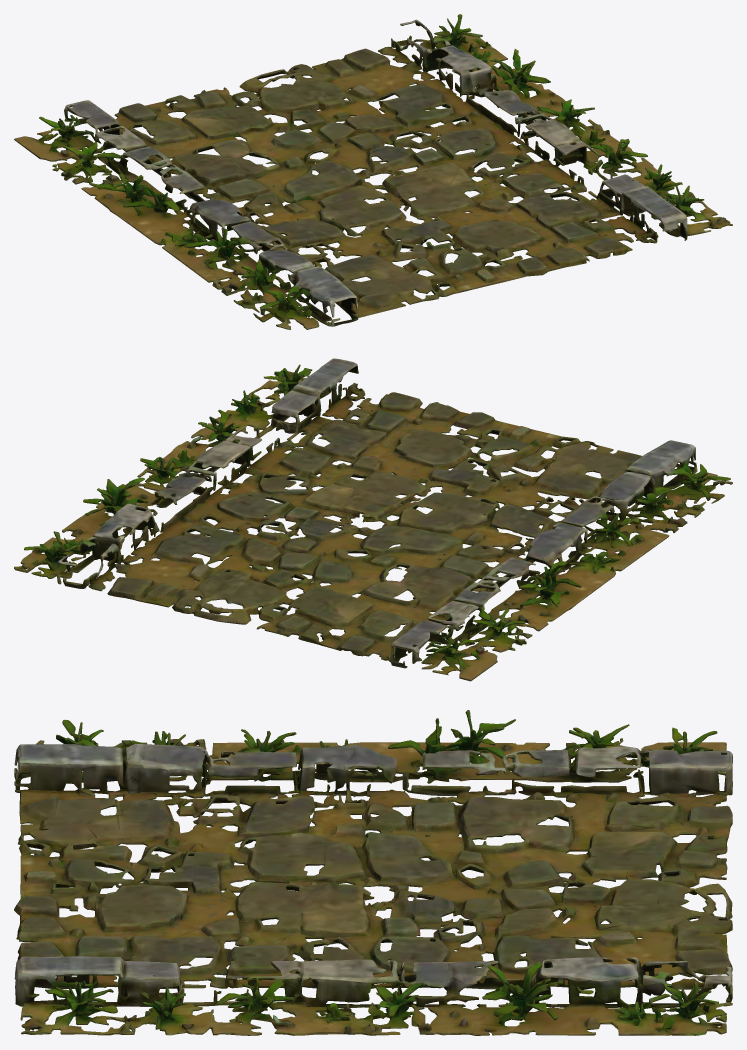
Rendered from roadTile1WithMesh_00001_.glb.
3 views of the same model, one above another, from view 1: azimuth 30°, elevation 25°; view 2: azimuth 150°, elevation 25°; view 3: azimuth 270°, elevation 25° (orthographic). The views are drawn at different scales.
Visible parts, largest first — view 1: geometry_0; view 2: geometry_0; view 3: geometry_0.
Part boxes in pixels (x1=…): geometry_0: x1=14, y1=14, x2=732, y2=329; geometry_0: x1=14, y1=358, x2=732, y2=681; geometry_0: x1=14, y1=710, x2=732, y2=1035.
Size of the model in its own units: 0.9698 by 0.0757 by 0.9995.
1 material, 1 textured.
